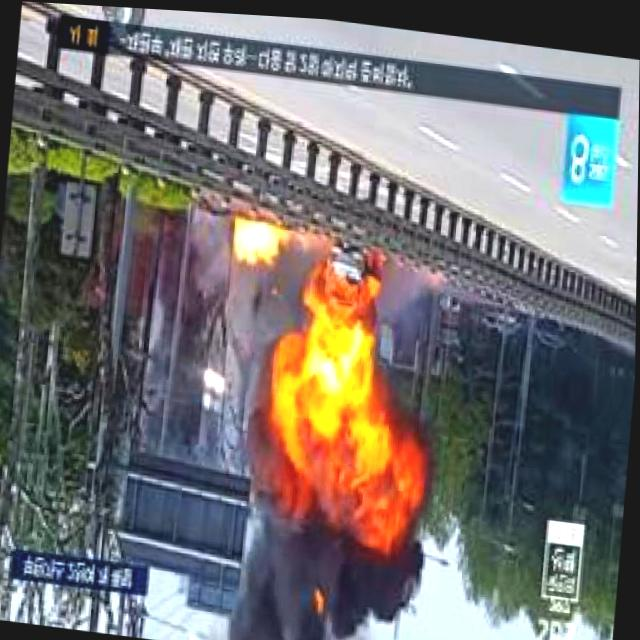helmet: (245, 231, 449, 556), (229, 215, 281, 259)
no_helmet: (231, 526, 434, 640)
